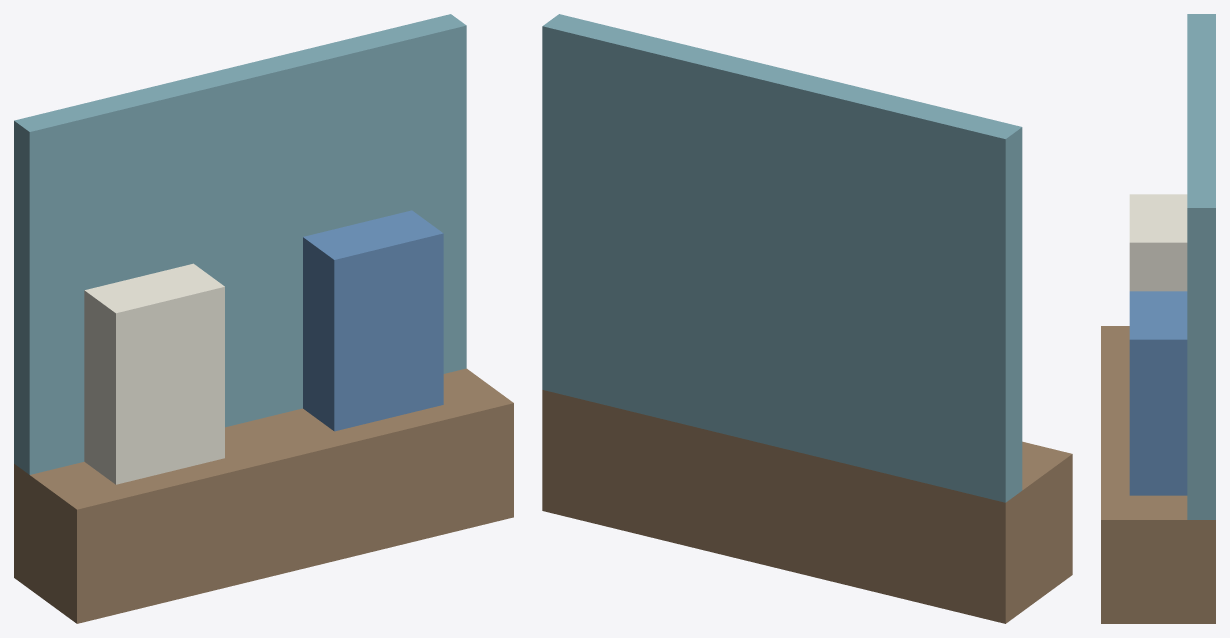
Rendered from kit_shop_window_display.glb.
3 views of the same model, side by side, from view 1: azimuth 30°, elevation 25°; view 2: azimuth 150°, elevation 25°; view 3: azimuth 270°, elevation 25° (orthographic). The views are drawn at different scales.
Parts seen in each view (by area): view 1: kit_shop_window_display-col; view 2: kit_shop_window_display-col; view 3: kit_shop_window_display-col.
Part boxes in pixels (left/top/right/bottom): kit_shop_window_display-col: left=14, top=14, right=513, bottom=623; kit_shop_window_display-col: left=542, top=14, right=1072, bottom=623; kit_shop_window_display-col: left=1101, top=14, right=1215, bottom=623.
Bounding box in the file's own units: 2 × 2 × 0.5.
